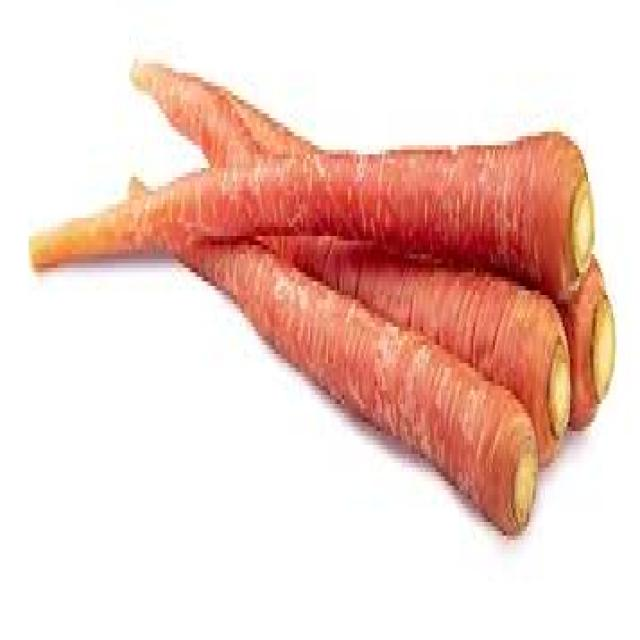Fresh_Carrot: (171, 222, 507, 545), (30, 133, 594, 299)
